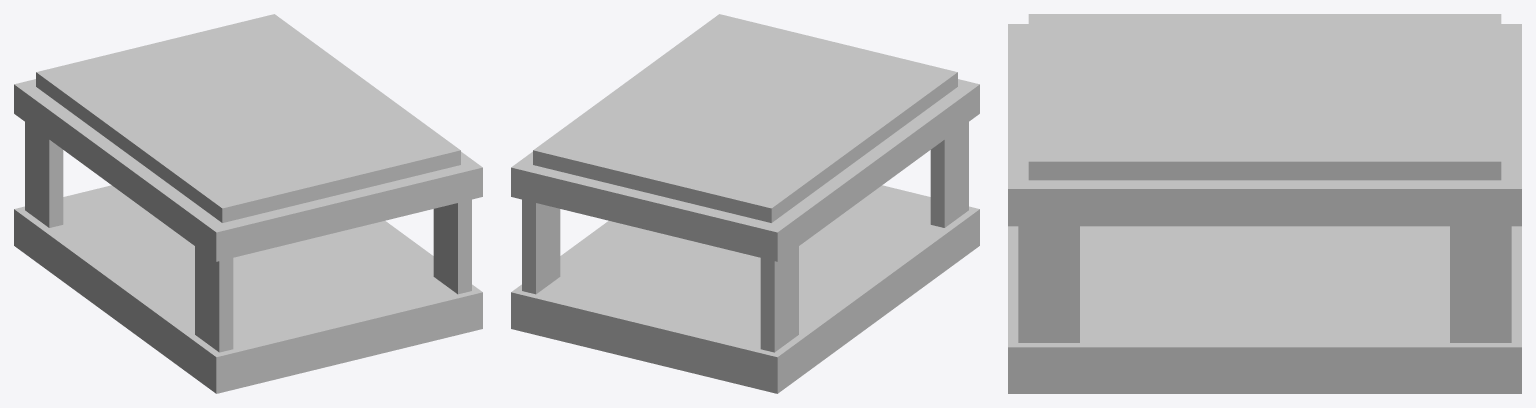
Rendered from PaperTray_01_snaps001.fbx.
The picture shows the model from 3 angles, left to right: view 1: azimuth 30°, elevation 25°; view 2: azimuth 150°, elevation 25°; view 3: azimuth 270°, elevation 25°; orthographic projection. The views are drawn at different scales.
Visible parts, largest first — view 1: PaperTray_01_snaps001; view 2: PaperTray_01_snaps001; view 3: PaperTray_01_snaps001.
Boxes of the visible parts, bbox=[...] form: PaperTray_01_snaps001: bbox=[14, 14, 482, 393]; PaperTray_01_snaps001: bbox=[511, 14, 979, 393]; PaperTray_01_snaps001: bbox=[1008, 14, 1521, 393].
Size of the model in its own units: 0.2969 by 0.1875 by 0.3906.
1 material, 1 textured.
